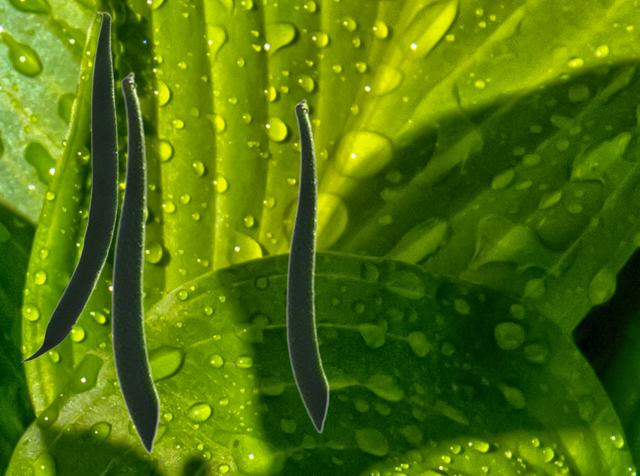french_bean: (20, 11, 117, 361), (110, 71, 160, 454), (285, 98, 329, 433)
